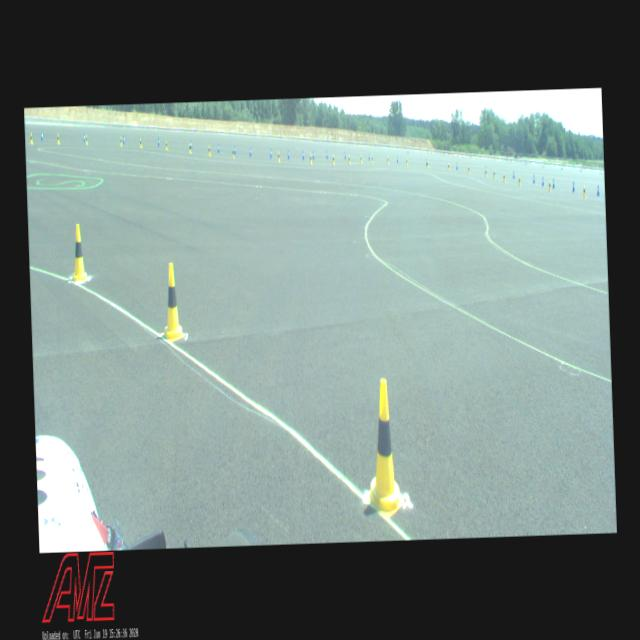blue_cone: (248, 146, 252, 157), (286, 148, 290, 159), (40, 130, 44, 140), (122, 134, 126, 144), (596, 184, 599, 195), (157, 136, 160, 146), (269, 148, 272, 158), (572, 180, 574, 192), (312, 150, 314, 160), (218, 142, 220, 152), (302, 149, 304, 159), (234, 145, 236, 155), (542, 176, 544, 186), (83, 132, 85, 142), (552, 178, 554, 188), (190, 140, 192, 150), (532, 174, 534, 183), (484, 165, 486, 174), (512, 170, 514, 178), (396, 154, 398, 162), (368, 152, 370, 160), (456, 161, 458, 169), (326, 150, 328, 158), (344, 150, 346, 158), (426, 157, 428, 165)
yellow_cone: (364, 377, 403, 519), (160, 261, 183, 340), (70, 222, 87, 280), (582, 184, 586, 196), (138, 136, 142, 148), (56, 133, 60, 144), (277, 150, 280, 162), (548, 180, 551, 191), (309, 153, 312, 164), (119, 136, 122, 146), (85, 134, 88, 144), (165, 140, 168, 150), (30, 132, 32, 144), (518, 174, 520, 186), (208, 144, 210, 156), (188, 142, 190, 154), (332, 154, 334, 164), (348, 154, 350, 164), (502, 172, 504, 182), (232, 148, 234, 158), (468, 164, 470, 173), (386, 155, 388, 164), (493, 169, 495, 178), (406, 157, 408, 166), (484, 167, 486, 176), (426, 159, 428, 168), (360, 154, 362, 162), (447, 162, 449, 170), (371, 154, 373, 162)
